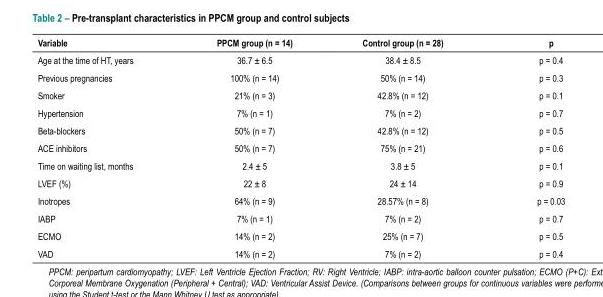table: (36, 36, 564, 258)
table column: (326, 36, 489, 258), (174, 36, 326, 258), (36, 36, 174, 258), (489, 36, 564, 258)
table column header: (36, 36, 564, 50)
table row: (36, 50, 564, 68), (36, 68, 564, 86), (36, 103, 564, 121), (36, 138, 564, 156), (36, 156, 564, 174), (36, 191, 564, 209), (36, 226, 564, 244), (36, 86, 564, 103), (36, 121, 564, 138), (36, 174, 564, 191), (36, 209, 564, 226), (36, 36, 564, 50), (36, 244, 564, 258)
